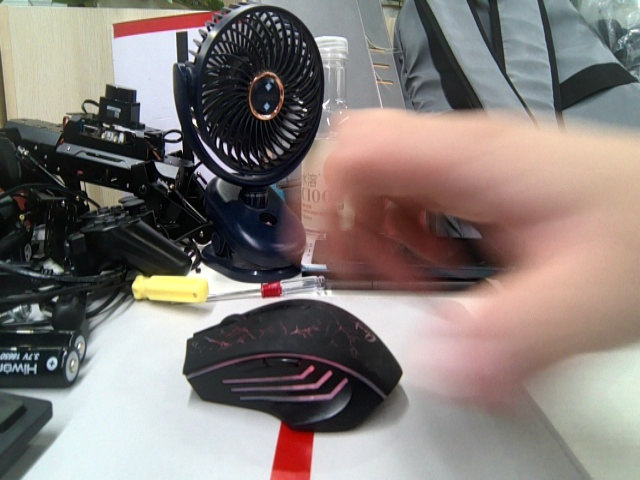mouse: (198, 300, 400, 417)
